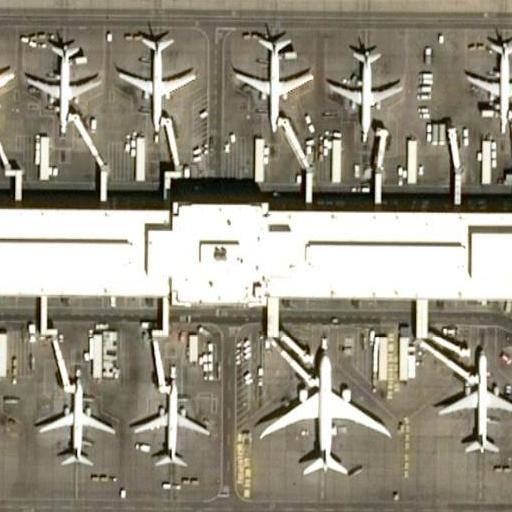Aircraft: (256, 349, 395, 478), (437, 347, 512, 463), (227, 31, 315, 128), (20, 35, 98, 133), (131, 381, 213, 472), (119, 30, 195, 128), (36, 379, 117, 469), (328, 43, 404, 131), (466, 36, 512, 129), (0, 23, 15, 141)
